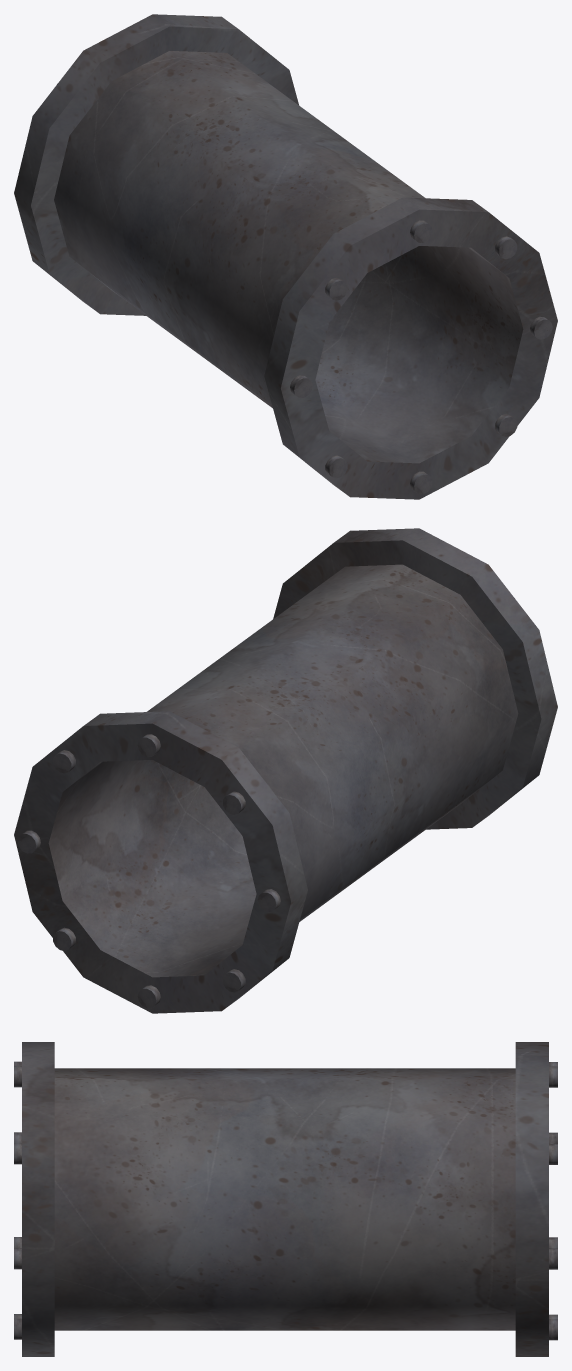
File: Pipe_Short.fbx
3 renders of one model, top to bottom at view 1: azimuth 30°, elevation 25°; view 2: azimuth 150°, elevation 25°; view 3: azimuth 270°, elevation 25°, orthographic.
Visible parts, largest first — view 1: Straight Medium2; view 2: Straight Medium2; view 3: Straight Medium2.
Part boxes in pixels (<box>): Straight Medium2: <box>14,14,557,499</box>; Straight Medium2: <box>14,528,557,1013</box>; Straight Medium2: <box>14,1042,557,1356</box>.
Size of the model in its own units: 6 by 6 by 10.33.
1 material, 1 textured.
